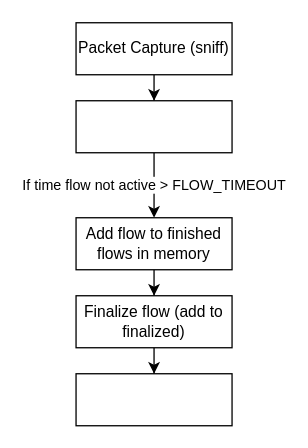
Some shapes in this 308 by 448 pixel diagram are drawn without their labels. The centre of each missing label's shape, as x and y in pixels:
"Pass to DF/DB/LLM" belongs at point (153, 399).
"Store/Update flows in memory (dict)" belongs at point (153, 126).
